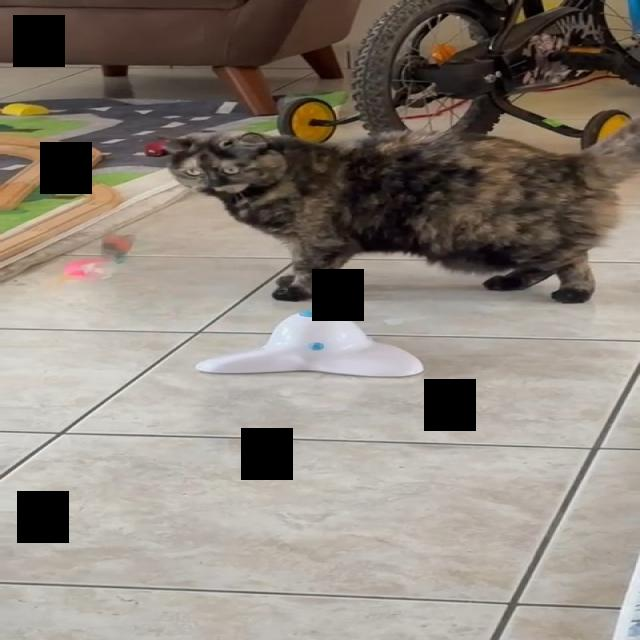authorized: (161, 116, 639, 304)
